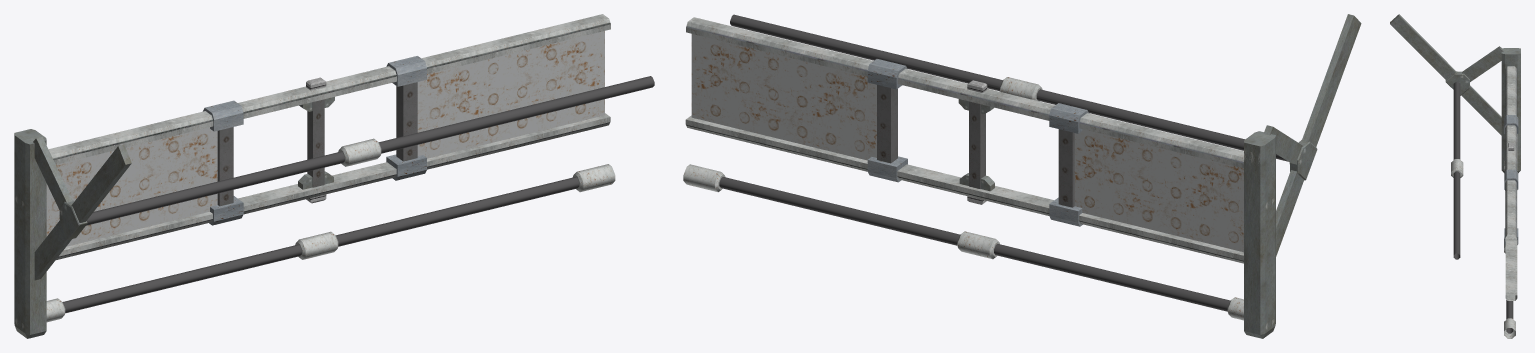
Rendered from Ob_FloatingSupport_RC.fbx.
3 renders of one model, left to right at view 1: azimuth 30°, elevation 25°; view 2: azimuth 150°, elevation 25°; view 3: azimuth 270°, elevation 25°, orthographic. The views are drawn at different scales.
Visible parts, largest first — view 1: Ob_FloatingSupport_RC; view 2: Ob_FloatingSupport_RC; view 3: Ob_FloatingSupport_RC.
Boxes of the visible parts, x1=… form: Ob_FloatingSupport_RC: x1=14, y1=14, x2=654, y2=338; Ob_FloatingSupport_RC: x1=683, y1=14, x2=1361, y2=338; Ob_FloatingSupport_RC: x1=1390, y1=14, x2=1520, y2=338.
Size of the model in its own units: 2548 by 1054 by 800.
